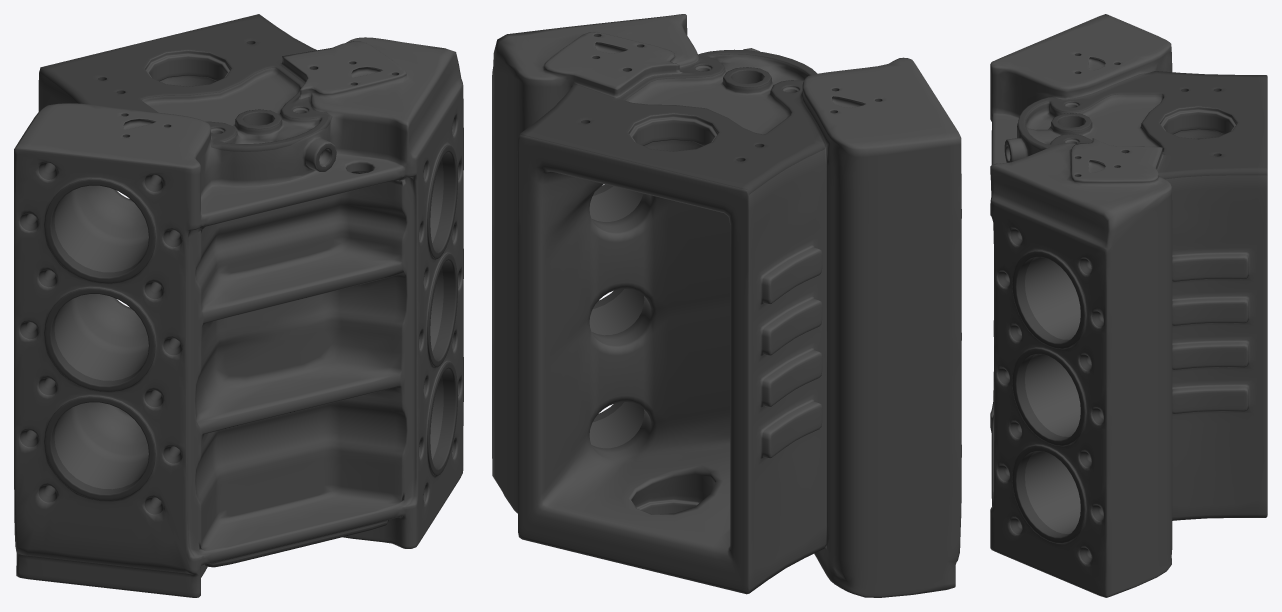
Rendered from motor.obj.
3 renders of one model, left to right at view 1: azimuth 30°, elevation 25°; view 2: azimuth 150°, elevation 25°; view 3: azimuth 270°, elevation 25°, orthographic. The views are drawn at different scales.
Visible parts, largest first — view 1: Engine_Block_body; view 2: Engine_Block_body; view 3: Engine_Block_body.
Part boxes in pixels (bbox=[...]): Engine_Block_body: bbox=[14, 14, 463, 597]; Engine_Block_body: bbox=[492, 14, 961, 597]; Engine_Block_body: bbox=[990, 14, 1267, 597].
Bounding box in the file's own units: 56.13 × 52.02 × 33.53.
Materials: 1 (1 with a texture image).
